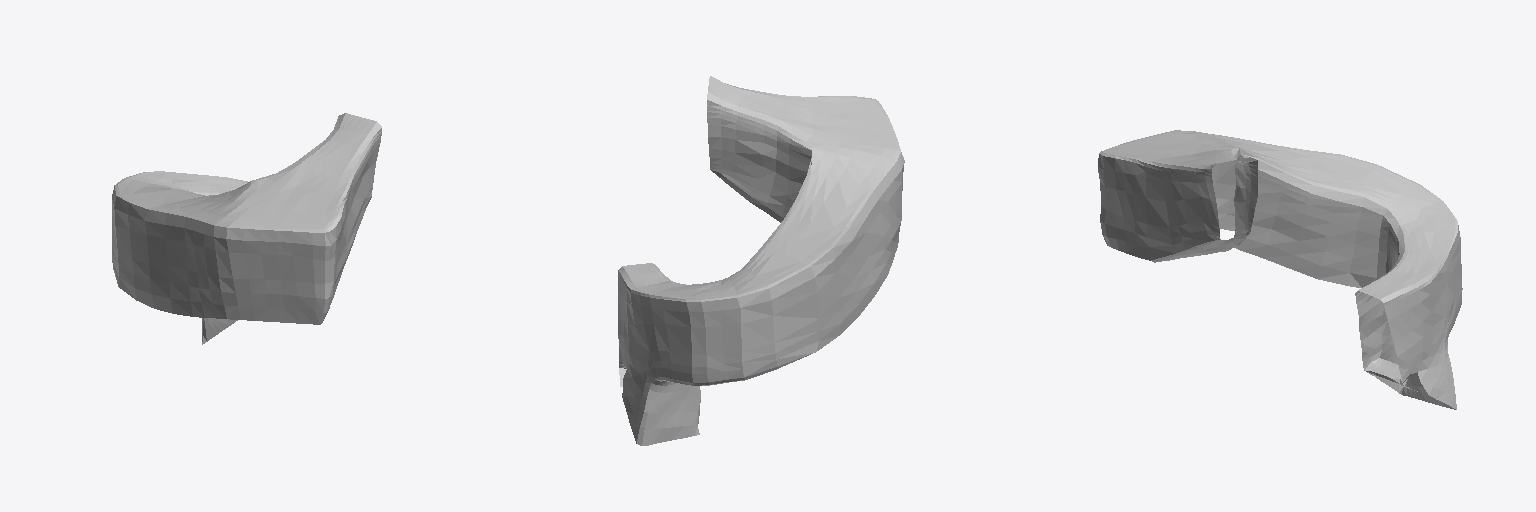
The model's file is Env2UV_low.obj.
3 views of the same model, side by side, from view 1: azimuth 30°, elevation 25°; view 2: azimuth 150°, elevation 25°; view 3: azimuth 270°, elevation 25° (orthographic).
Visible parts, largest first — view 1: Curve_Tunnel; view 2: Curve_Tunnel; view 3: Curve_Tunnel.
Part boxes in pixels (x1,y1,x2,y2): Curve_Tunnel: (112, 113, 381, 344); Curve_Tunnel: (618, 76, 904, 445); Curve_Tunnel: (1098, 130, 1462, 409).
Bounding box in the file's own units: 56.95 × 75.41 × 91.91.